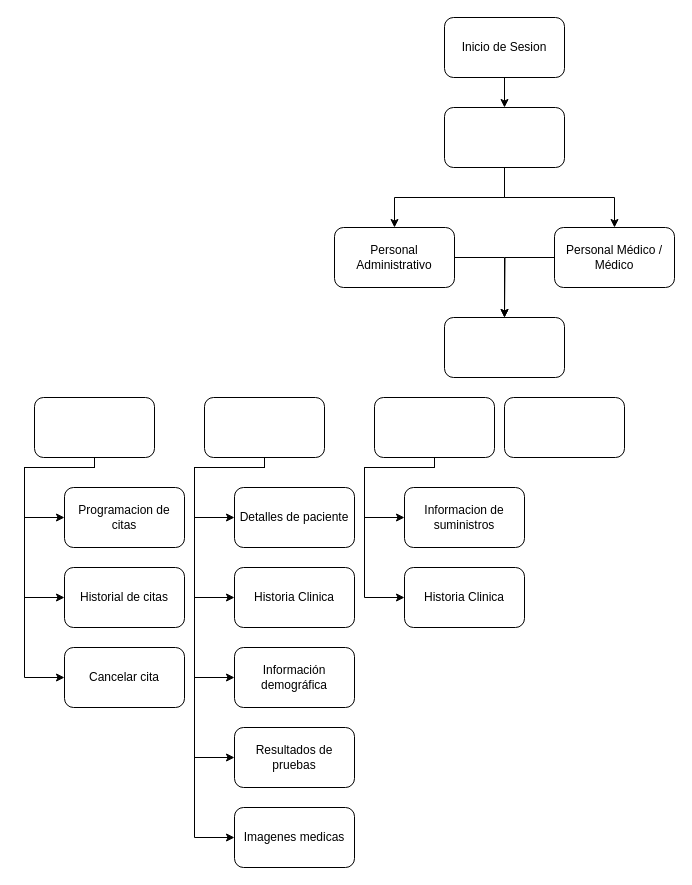
The diagram is 692 pixels wide and 885 high, and some of its shapes have lost their labels. Each missing label, with the centre of its shape:
"Citas y Agendamiento" belongs at point 94,427.
"Gestion de suministros" belongs at point 434,427.
"Gestion Pacientes" belongs at point 264,427.
"Reportes y Estadisticas" belongs at point 564,427.
"Verificar Tipo Usuario" belongs at point 504,137.
